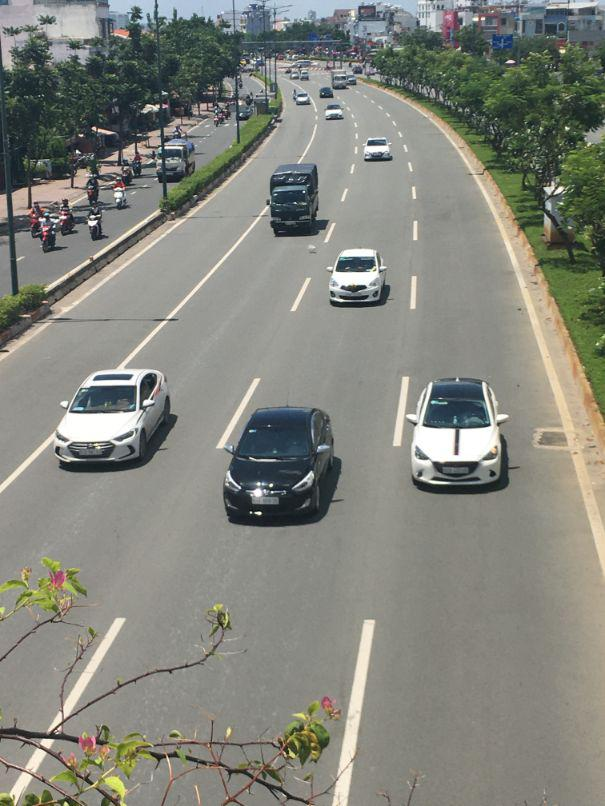car: (223, 403, 341, 526), (51, 366, 178, 468), (407, 378, 512, 492), (329, 246, 390, 309), (366, 138, 394, 164), (324, 104, 344, 122), (294, 89, 309, 105), (319, 85, 333, 97)
motorbike: (88, 213, 103, 239)
truck: (268, 162, 321, 235), (156, 145, 194, 185)
